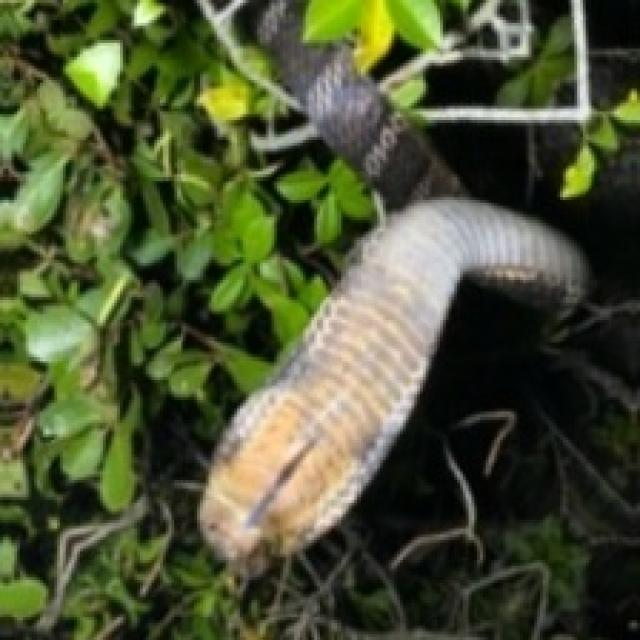king cobra: (200, 49, 586, 574)
